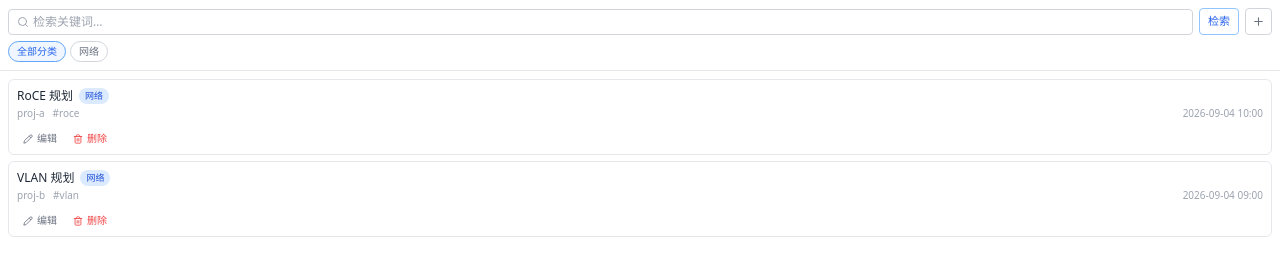
Test: KnowledgePanel（505-b 新增/编辑/删除） › 展开条目 → 获取内容预览
This screenshot has width=1280, height=277.
Click the text "RoCE 规划" at (45, 96), box [17, 88, 73, 104]
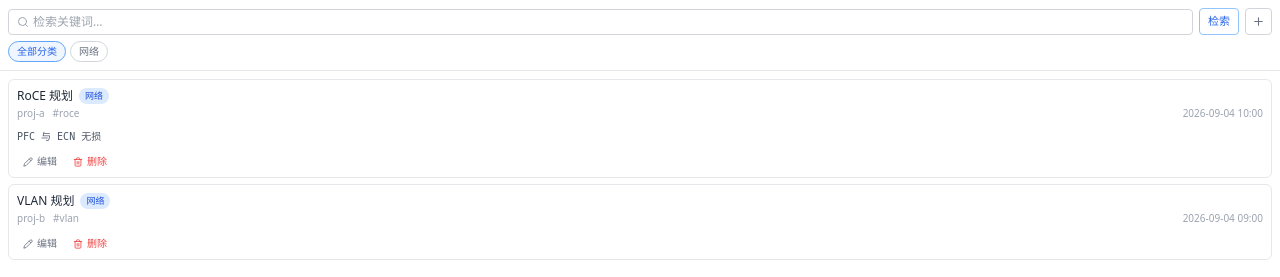
Now the text "PFC 与 ECN 无损" is shown, box [17, 131, 101, 142]
